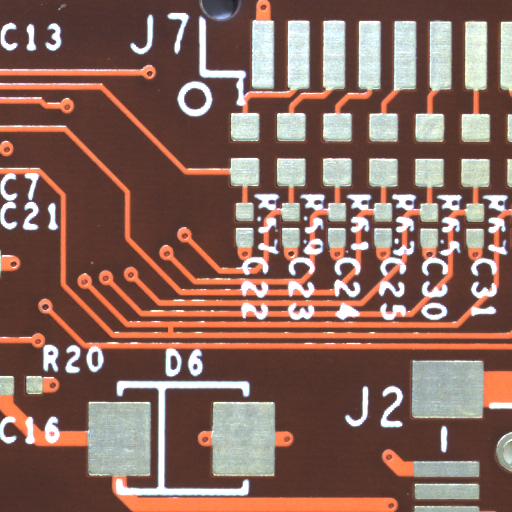Short: (170, 329, 180, 339)
